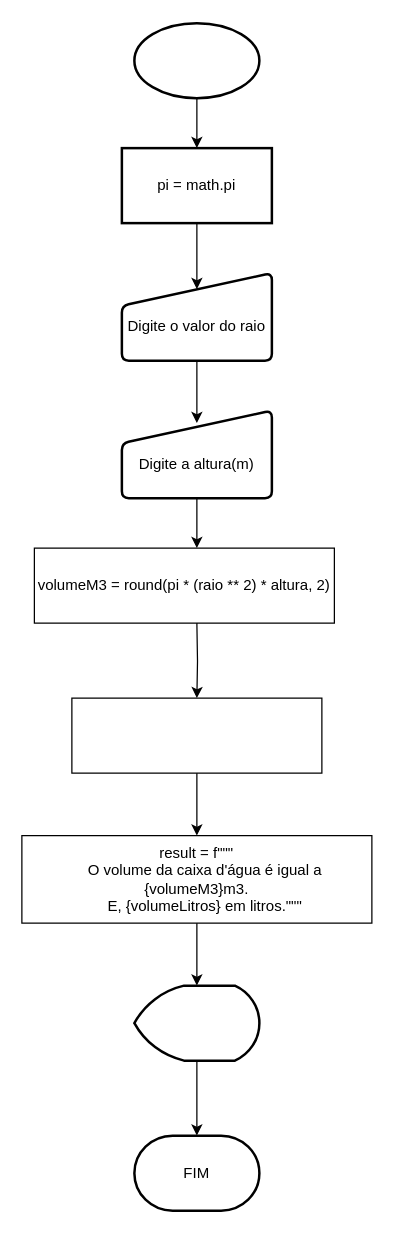
The diagram is 394 pixels wide and 1233 high, and some of its shapes have lost their labels. Each missing label, with the box of its shape:
INÍCIO: (132, 21, 260, 99)
result: (132, 984, 260, 1061)
volumeLitros = volumeM3 * 1000: (71, 697, 322, 773)
